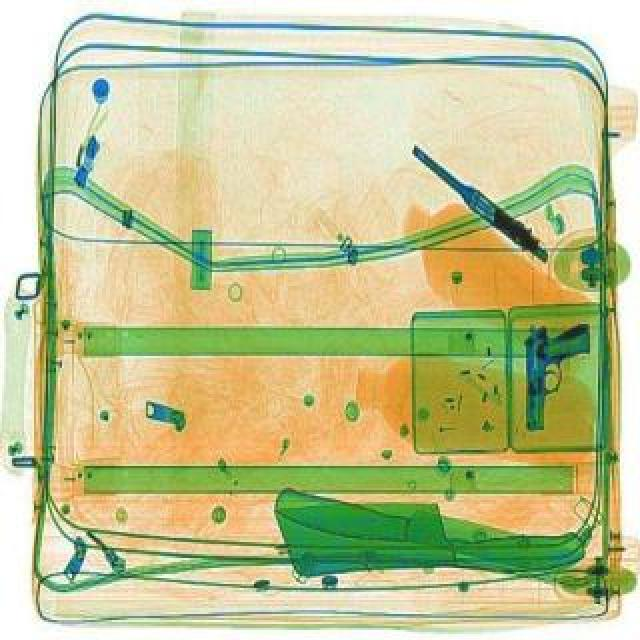gun: (402, 142, 558, 264), (522, 320, 590, 428)
knife: (270, 480, 582, 582), (270, 480, 586, 572)
